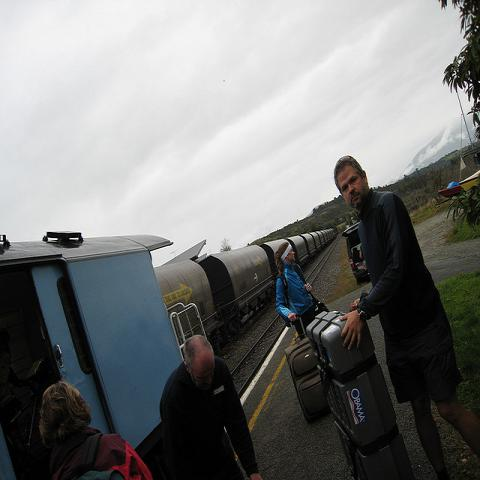car: (342, 221, 370, 280)
